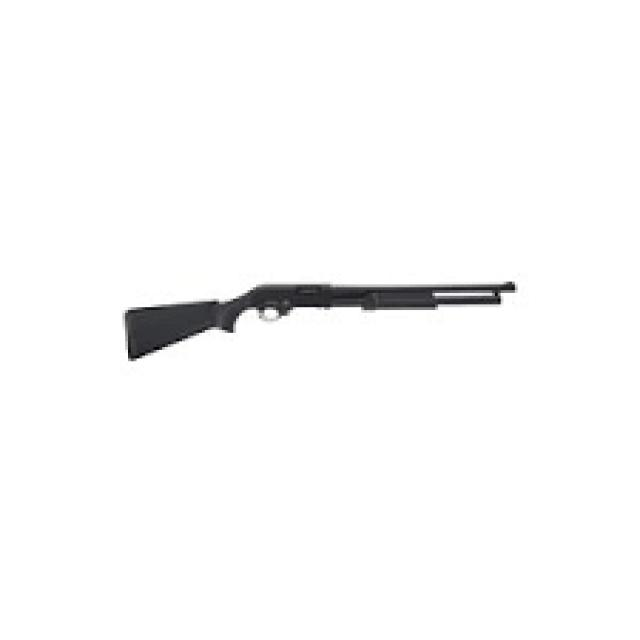rifle: (120, 278, 529, 372)
